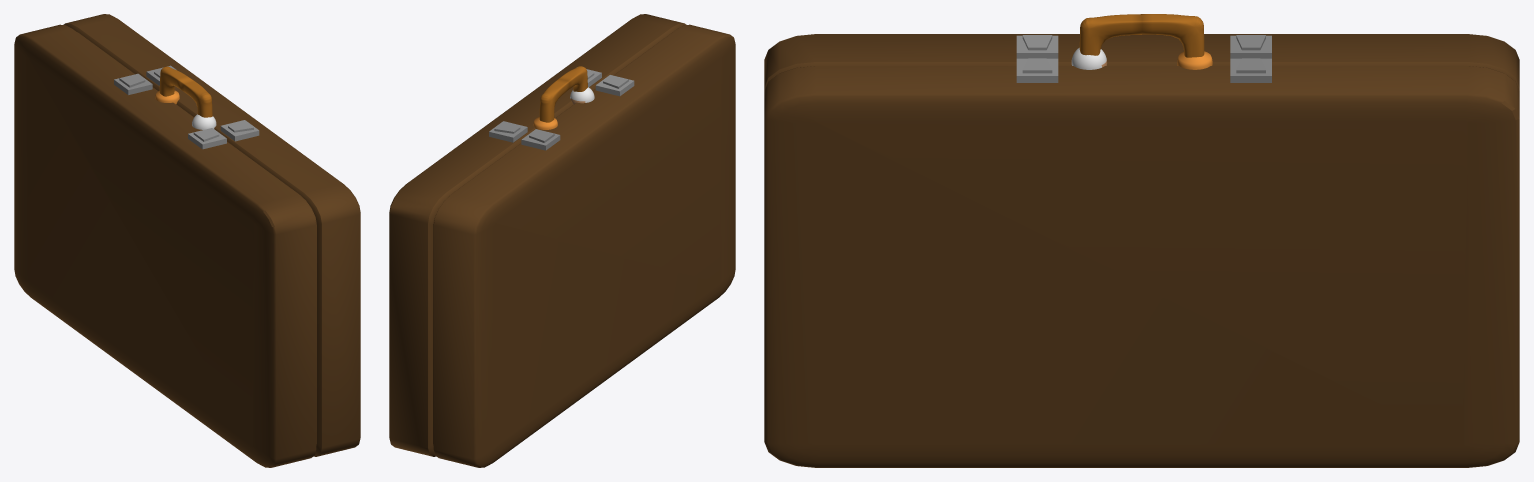
Rendered from valise.fbx.
The picture shows the model from 3 angles, left to right: view 1: azimuth 30°, elevation 25°; view 2: azimuth 150°, elevation 25°; view 3: azimuth 270°, elevation 25°; orthographic projection. The views are drawn at different scales.
Parts seen in each view (by area): view 1: Cube.004, Plane, Cube.003, Cube.001; view 2: Cube.004, Plane, Cube.001, Cube.003; view 3: Cube.004, Plane, Cube.003, Cube.001.
Boxes of the visible parts, left/top/right/bottom form: Cube.004: left=14, top=14, right=360, bottom=467; Plane: left=159, top=66, right=212, bottom=117; Cube.003: left=188, top=120, right=259, bottom=149; Cube.001: left=114, top=65, right=176, bottom=94; Cube.004: left=389, top=14, right=735, bottom=467; Plane: left=539, top=66, right=587, bottom=122; Cube.001: left=489, top=121, right=560, bottom=150; Cube.003: left=586, top=69, right=634, bottom=96; Cube.004: left=764, top=34, right=1519, bottom=467; Plane: left=1079, top=14, right=1204, bottom=57; Cube.003: left=1016, top=35, right=1058, bottom=82; Cube.001: left=1230, top=35, right=1271, bottom=82.
Bounding box in the file's own units: 45.61 × 137 × 223.
